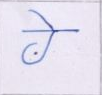e_matra: (28, 9, 57, 30)
